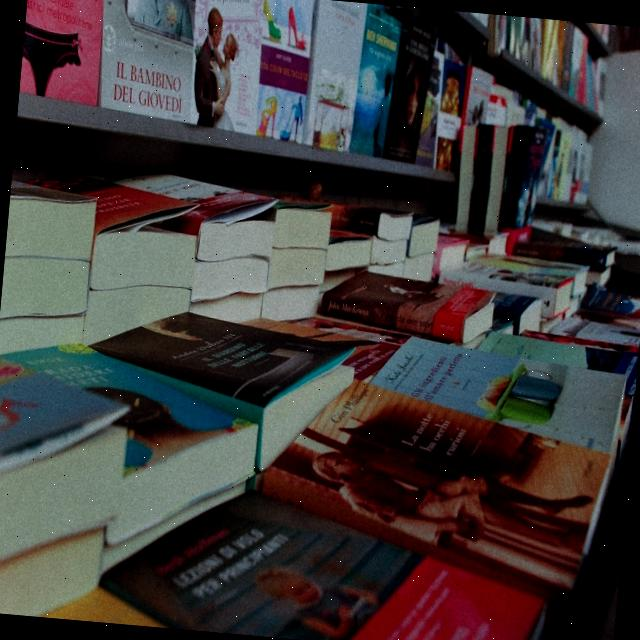book: (270, 378, 614, 589), (92, 308, 353, 409), (349, 6, 403, 151), (386, 18, 441, 159), (319, 293, 461, 345), (502, 127, 534, 229)
